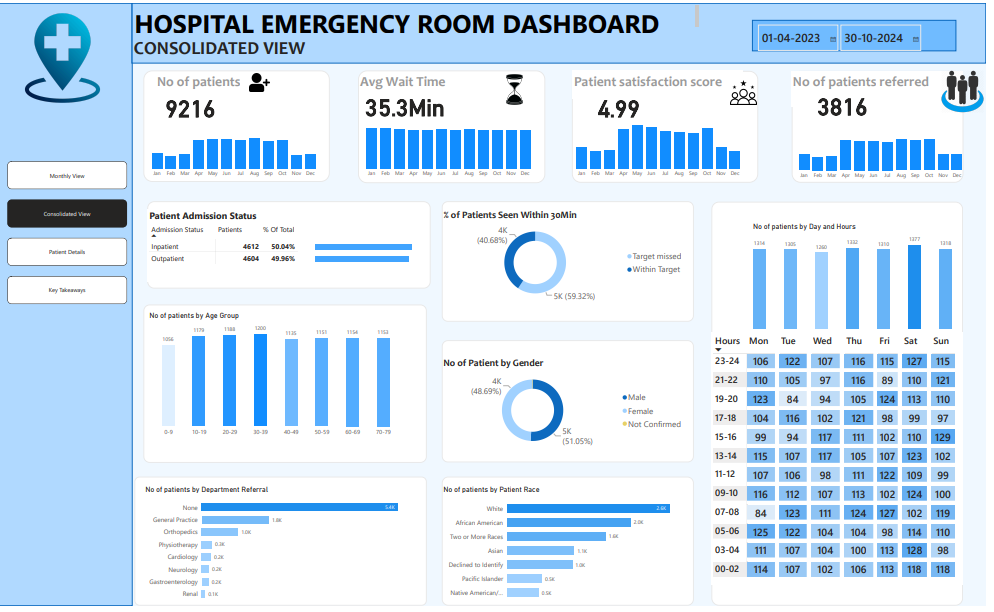

This screenshot's page, from the dashboard's own definition file:
{"tool":"powerbi","page":{"name":"Consolidated View","canvas":[2300,1400],"ordinal":1},"visuals":[{"type":"shape","box":[0,0,312,1400],"z":0},{"type":"shape","box":[311.1,0,1988.9,138.9],"z":1000},{"type":"textbox","box":[312,0,1324,72],"z":2000},{"type":"textbox","box":[311.1,72.2,447.2,66.7],"z":3000},{"type":"shape","box":[338.5,156.4,433.3,259],"z":4000},{"type":"card","fields":{"Values":["Hospital ER_Data.No of patients"]},"box":[338.5,205.1,217.9,66.7],"z":5000},{"type":"textbox","box":[365,157.3,271.8,66.7],"z":6000},{"type":"shape","box":[838.5,156.4,435.9,261.5],"z":7000},{"type":"shape","box":[1336,156.5,434,260.9],"z":8000},{"type":"shape","box":[1847.8,156.5,400,260.9],"z":9000},{"type":"card","fields":{"Values":["Hospital ER_Data.Avg Wait Time"]},"box":[838.5,202.6,217.9,66.7],"z":10000},{"type":"textbox","box":[838.5,156.4,241,66.7],"z":11000},{"type":"textbox","box":[1335.9,156.4,397.4,66.7],"z":12000},{"type":"card","fields":{"Values":["Hospital ER_Data.Satisfaction score"]},"box":[1335.9,205.1,217.9,66.7],"z":13000},{"type":"textbox","box":[1846.4,157.1,400,82.1],"z":14000},{"type":"card","fields":{"Values":["Hospital ER_Data.No of patients referred"]},"box":[1846.4,200,239.3,67.9],"z":15000},{"type":"shape","box":[346.7,460,660,203.3],"z":16000},{"type":"columnChart","fields":{"Category":["Date_Table.Month Name"],"Y":["Hospital ER_Data.No of patients referred"]},"box":[1846.4,271.4,417.9,146.4],"z":17000},{"type":"pivotTable","title":"Patient Admission Status","fields":{"Rows":["Hospital ER_Data.Admission Status"],"Values":["Hospital ER_Data.No of patients1","Hospital ER_Data.No of patients"]},"box":[347.3,478.2,387.3,169.1],"z":18000},{"type":"barChart","fields":{"Category":["Hospital ER_Data.Admission Status"],"Y":["Hospital ER_Data.No of patients referred"]},"box":[732.7,530.9,241.8,92.7],"z":19000},{"type":"shape","box":[338.2,700,660,368],"z":20000},{"type":"shape","box":[316.7,1100,681.8,300],"z":21000},{"type":"clusteredBarChart","fields":{"Category":["Hospital ER_Data.Department Referral"],"Y":["Hospital ER_Data.No of patients"]},"box":[337.8,1118.9,621.6,281.1],"z":22000},{"type":"clusteredColumnChart","fields":{"Category":["Hospital ER_Data.Age Group"],"Y":["Hospital ER_Data.No of patients"]},"box":[347,715.2,600,300],"z":23000},{"type":"shape","box":[1033.3,460,586.7,280],"z":24000},{"type":"donutChart","title":"% of Patients Seen Within 30Min","fields":{"Category":["Hospital ER_Data.Waittime status"],"Y":["Hospital ER_Data.No of patients"]},"box":[1032.7,477.6,573.5,222.4],"z":25000},{"type":"shape","box":[1033.3,783.3,586.7,283.3],"z":26000},{"type":"donutChart","title":"No of Patient by Gender","fields":{"Category":["Hospital ER_Data.Patient Gender"],"Y":["Hospital ER_Data.No of patients"]},"box":[1032.4,821.6,573,221.6],"z":27000},{"type":"shape","box":[1033.3,1100,586.3,300],"z":28000},{"type":"clusteredBarChart","fields":{"Y":["Hospital ER_Data.No of patients"],"Category":["Hospital ER_Data.Patient Race"]},"box":[1032.4,1118.9,559.5,281.1],"z":29000},{"type":"shape","box":[1661.1,461.1,586.1,938.9],"z":30000},{"type":"pivotTable","fields":{"Rows":["Hospital ER_Data.Waittime Interval"],"Columns":["Date_Table.Day Name"],"Values":["Hospital ER_Data.No of patients"]},"box":[1660,762.9,585.7,588.6],"z":31000},{"type":"columnChart","title":"No of patients by Day and Hours","fields":{"Category":["Date_Table.Day Name"],"Y":["Hospital ER_Data.No of patients"]},"box":[1752.9,507.8,476.5,254.9],"z":32000},{"type":"image","box":[0,18.6,300,216.3],"z":33000},{"type":"columnChart","fields":{"Category":["Date_Table.Month Name"],"Y":["Sum(Hospital ER_Data.Patient Satisfaction Score)"]},"box":[1327.8,266.7,419.4,147.2],"z":34000},{"type":"columnChart","fields":{"Category":["Date_Table.Month Name"],"Y":["Avg(Hospital ER_Data.Patient Waittime)"]},"box":[838.9,266.7,419.4,147.2],"z":35000},{"type":"columnChart","fields":{"Category":["Date_Table.Month Name"],"Y":["Hospital ER_Data.No of patients"]},"box":[338.9,266.7,419.4,147.2],"z":36000},{"type":"slicer","fields":{"Values":["Date_Table.Date"]},"box":[1755.6,38.9,475,72.2],"z":37000},{"type":"pageNavigator","box":[21.2,366.7,278.8,333.3],"z":38000},{"type":"image","box":[578.8,157.6,57.6,54.5],"z":39000},{"type":"image","box":[1151.5,160.6,100,78.8],"z":40000},{"type":"image","box":[2190.9,142.4,109.1,124.2],"z":41000},{"type":"image","box":[1700,157.6,69.7,97],"z":42000}]}

Visuals, with their boxes in screenshot pixels (x1, y1, x2, y2), scaled from the page's 2300x1400 canvas onto the 994x612 screenshot:
shape: <region>0, 0, 135, 611</region>
shape: <region>134, 0, 993, 61</region>
textbox: <region>135, 0, 707, 31</region>
textbox: <region>134, 32, 328, 61</region>
shape: <region>146, 68, 334, 182</region>
card - Hospital ER_Data.No of patients: <region>146, 90, 240, 119</region>
textbox: <region>158, 69, 275, 98</region>
shape: <region>362, 68, 551, 183</region>
shape: <region>577, 68, 765, 182</region>
shape: <region>799, 68, 971, 182</region>
card - Hospital ER_Data.Avg Wait Time: <region>362, 89, 457, 118</region>
textbox: <region>362, 68, 467, 98</region>
textbox: <region>577, 68, 749, 98</region>
card - Hospital ER_Data.Satisfaction score: <region>577, 90, 672, 119</region>
textbox: <region>798, 69, 971, 105</region>
card - Hospital ER_Data.No of patients referred: <region>798, 87, 901, 117</region>
shape: <region>150, 201, 435, 290</region>
columnChart - Date_Table.Month Name x Hospital ER_Data.No of patients referred: <region>798, 119, 979, 183</region>
"Patient Admission Status" pivotTable: <region>150, 209, 317, 283</region>
barChart - Hospital ER_Data.Admission Status x Hospital ER_Data.No of patients referred: <region>317, 232, 421, 273</region>
shape: <region>146, 306, 431, 467</region>
shape: <region>137, 481, 432, 611</region>
clusteredBarChart - Hospital ER_Data.Department Referral x Hospital ER_Data.No of patients: <region>146, 489, 415, 611</region>
clusteredColumnChart - Hospital ER_Data.Age Group x Hospital ER_Data.No of patients: <region>150, 313, 409, 444</region>
shape: <region>447, 201, 700, 323</region>
"% of Patients Seen Within 30Min" donutChart: <region>446, 209, 694, 306</region>
shape: <region>447, 342, 700, 466</region>
"No of Patient by Gender" donutChart: <region>446, 359, 694, 456</region>
shape: <region>447, 481, 700, 611</region>
clusteredBarChart - Hospital ER_Data.No of patients x Hospital ER_Data.Patient Race: <region>446, 489, 688, 611</region>
shape: <region>718, 202, 971, 611</region>
pivotTable - Hospital ER_Data.Waittime Interval x Date_Table.Day Name: <region>717, 333, 971, 591</region>
"No of patients by Day and Hours" columnChart: <region>758, 222, 963, 333</region>
image: <region>0, 8, 130, 103</region>
columnChart - Date_Table.Month Name x Sum(Hospital ER_Data.Patient Satisfaction Score): <region>574, 117, 755, 181</region>
columnChart - Date_Table.Month Name x Avg(Hospital ER_Data.Patient Waittime): <region>363, 117, 544, 181</region>
columnChart - Date_Table.Month Name x Hospital ER_Data.No of patients: <region>146, 117, 328, 181</region>
slicer - Date_Table.Date: <region>759, 17, 964, 49</region>
pageNavigator: <region>9, 160, 130, 306</region>
image: <region>250, 69, 275, 93</region>
image: <region>498, 70, 541, 105</region>
image: <region>947, 62, 993, 117</region>
image: <region>735, 69, 765, 111</region>
